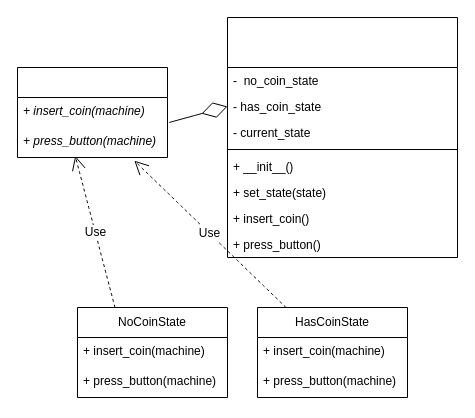
Some shapes in this 475 by 418 pixel diagram are drawn without their labels. The shapes that lost their labels are listed below. From the top down, each one's box as (x1, y1, x2, y2) in pixels, then its label:
(16, 66, 168, 158): State abstract
(226, 16, 458, 258): VendingMachine
